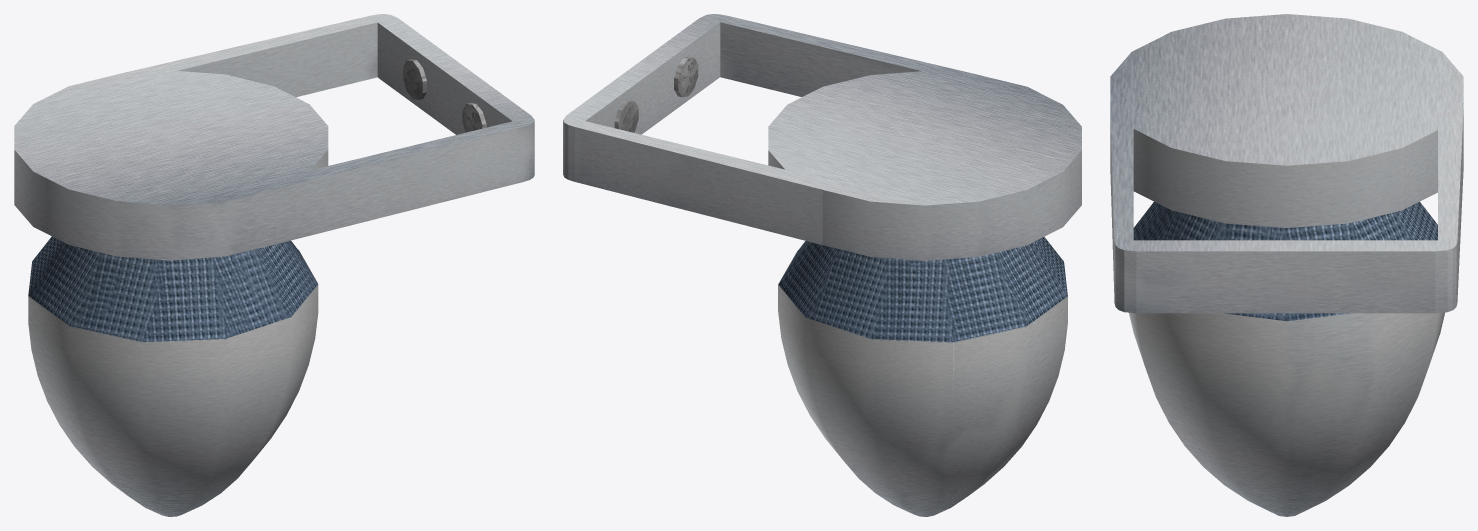
The model's file is LuzTecho.obj.
3 views of the same model, side by side, from view 1: azimuth 30°, elevation 25°; view 2: azimuth 150°, elevation 25°; view 3: azimuth 270°, elevation 25° (orthographic). The views are drawn at different scales.
Parts seen in each view (by area): view 1: LucesTecho; view 2: LucesTecho; view 3: LucesTecho.
Boxes of the visible parts, box(x1,y1,x2,y2) form: LucesTecho: box(14, 14, 534, 516); LucesTecho: box(563, 14, 1081, 516); LucesTecho: box(1110, 14, 1463, 516).
Bounding box in the file's own units: 5.14 × 4.31 × 3.24.
